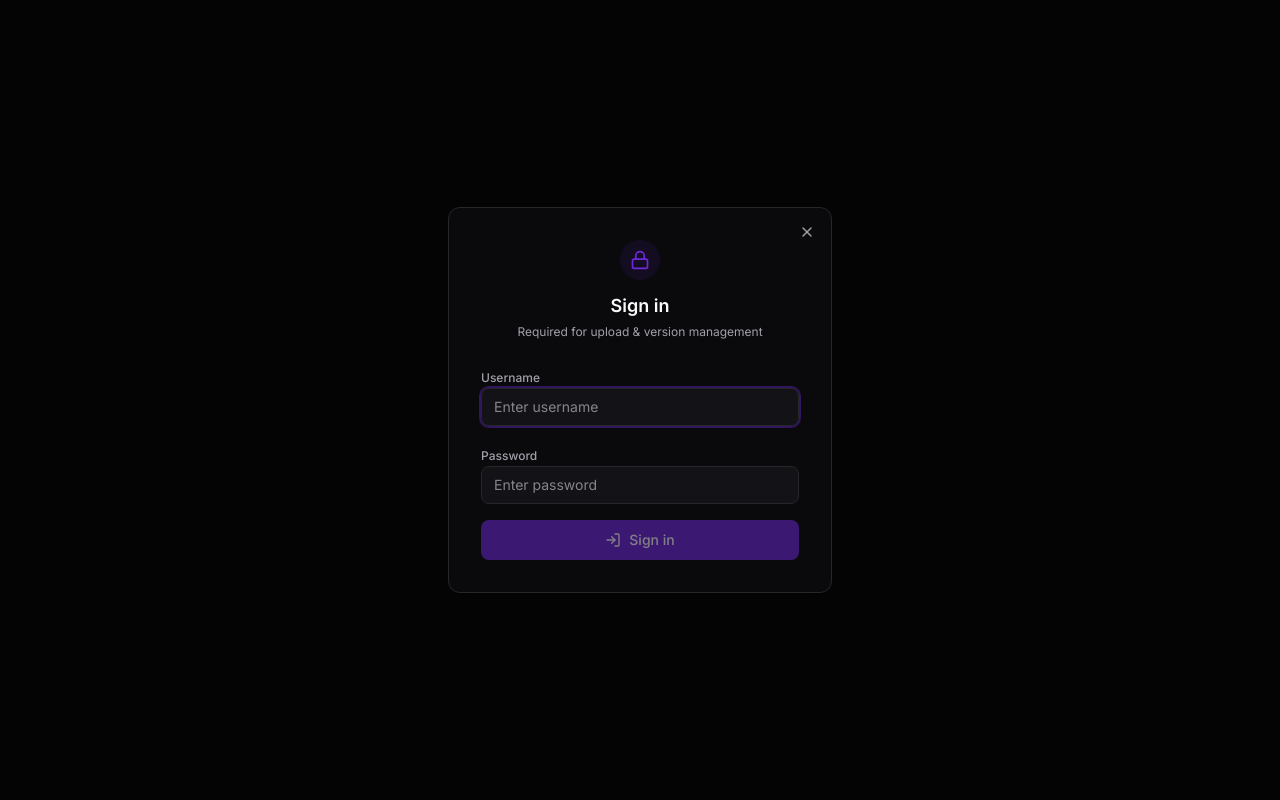
Test: LoginModal › shows error message when signIn rejects
In the field with placeholder "Enter username": (640, 407) [481,388,799,426], type "alice"
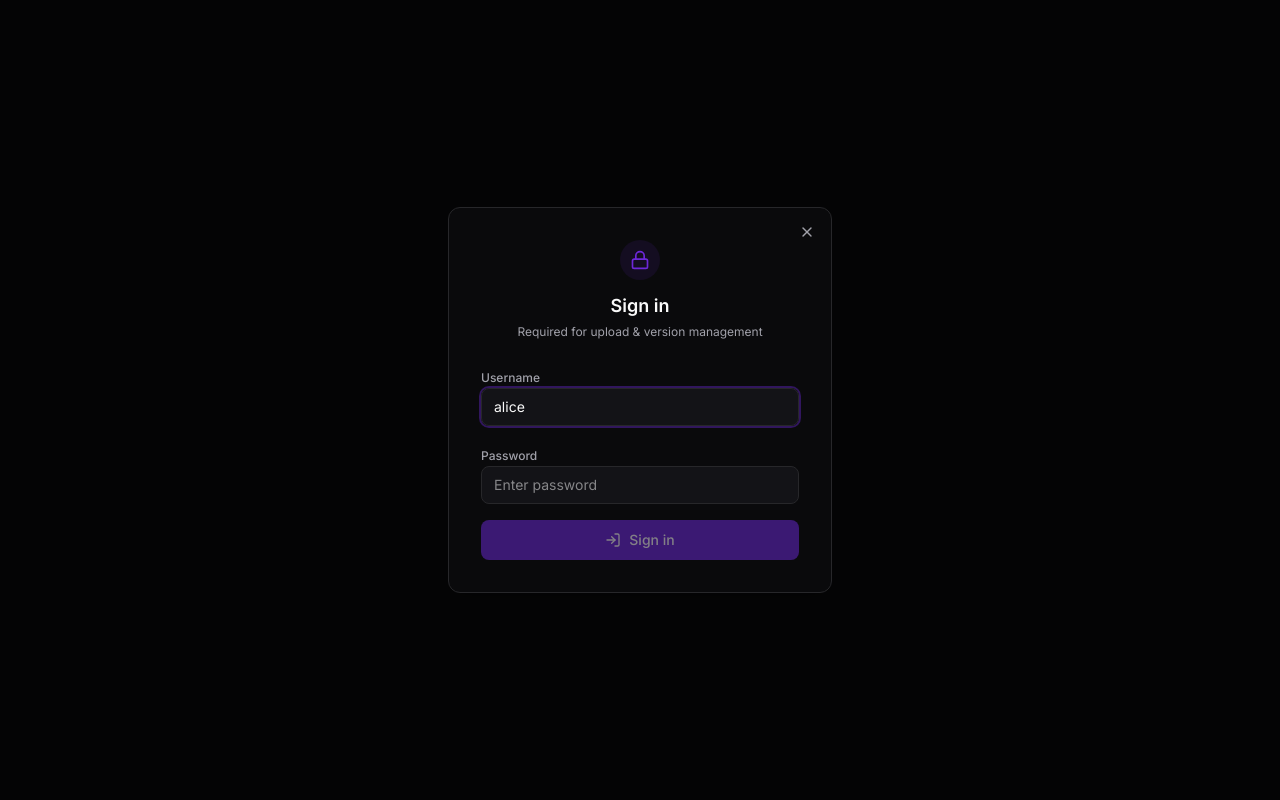
In the password field with placeholder "Enter password": (640, 485) [481,466,799,504], type "wrong"
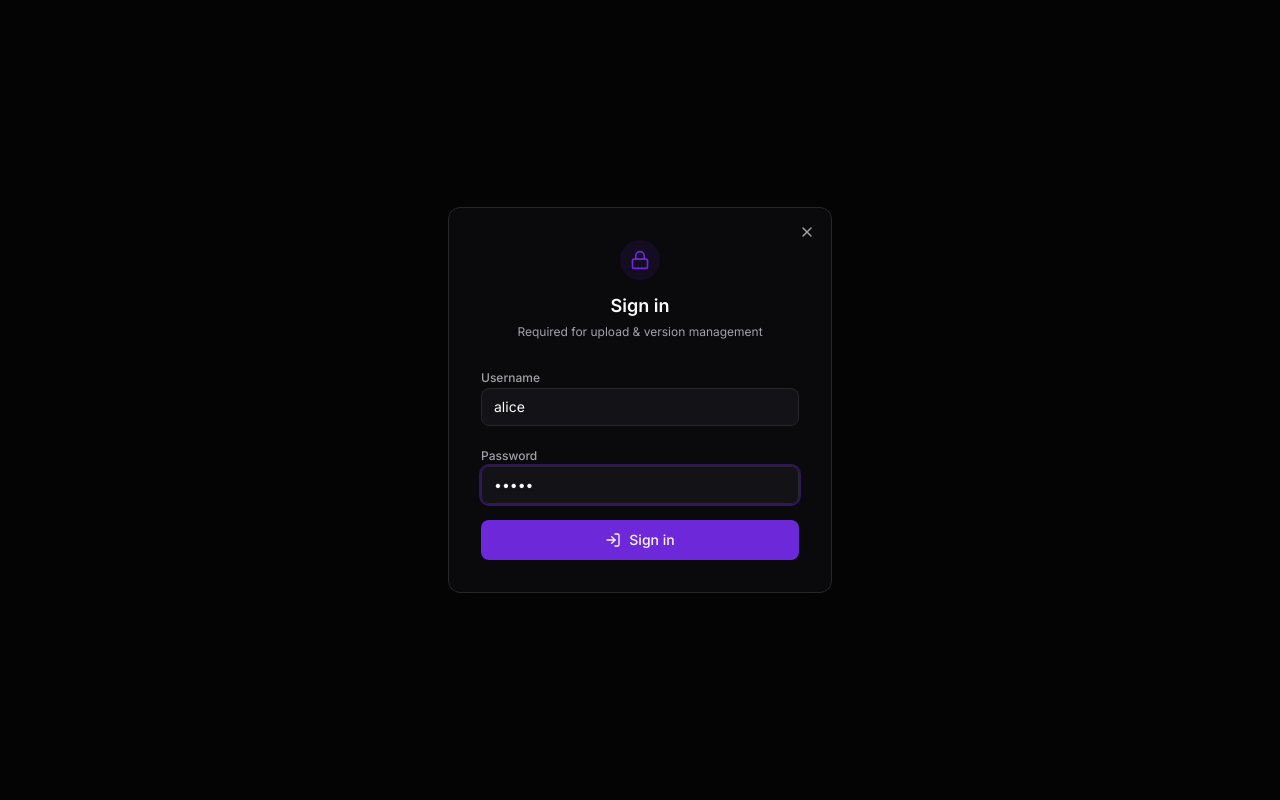
Click the button "Sign in": (640, 540) [481,520,799,560]
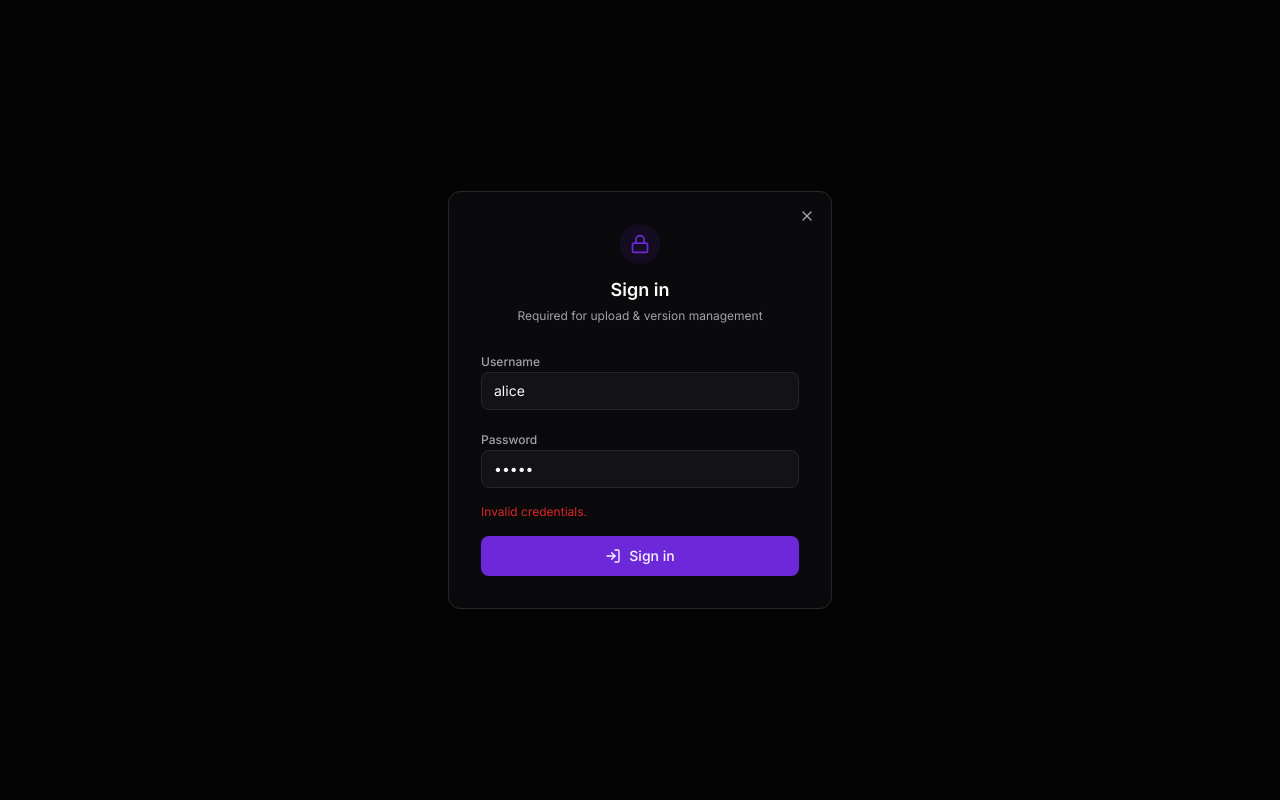
Check: the text "Invalid credentials." is shown, box [481,504,587,519]
